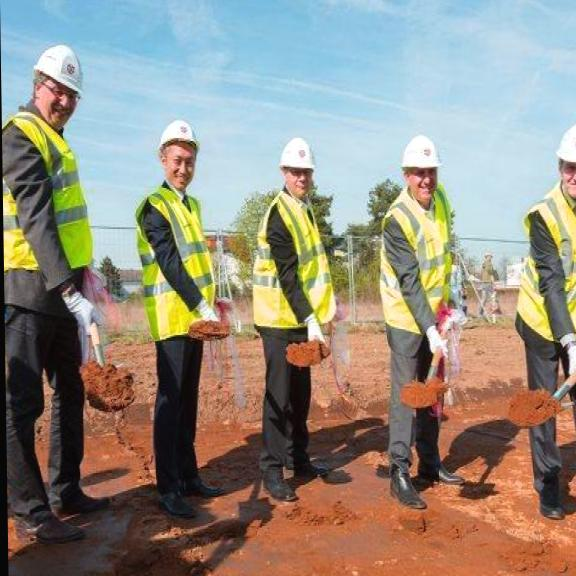safety_vest: (2, 122, 87, 299), (131, 191, 221, 350), (375, 200, 460, 346), (513, 198, 576, 372), (256, 203, 327, 335)
